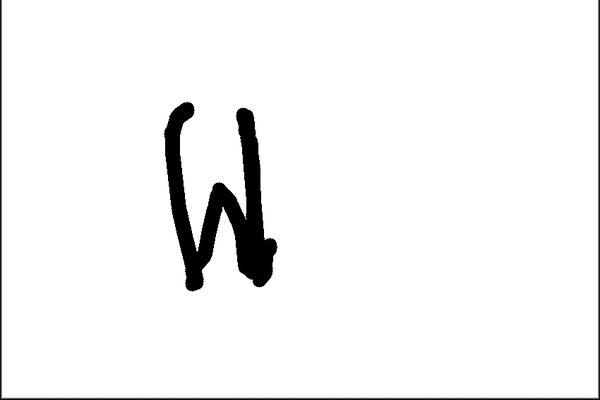w: (140, 91, 293, 304)
